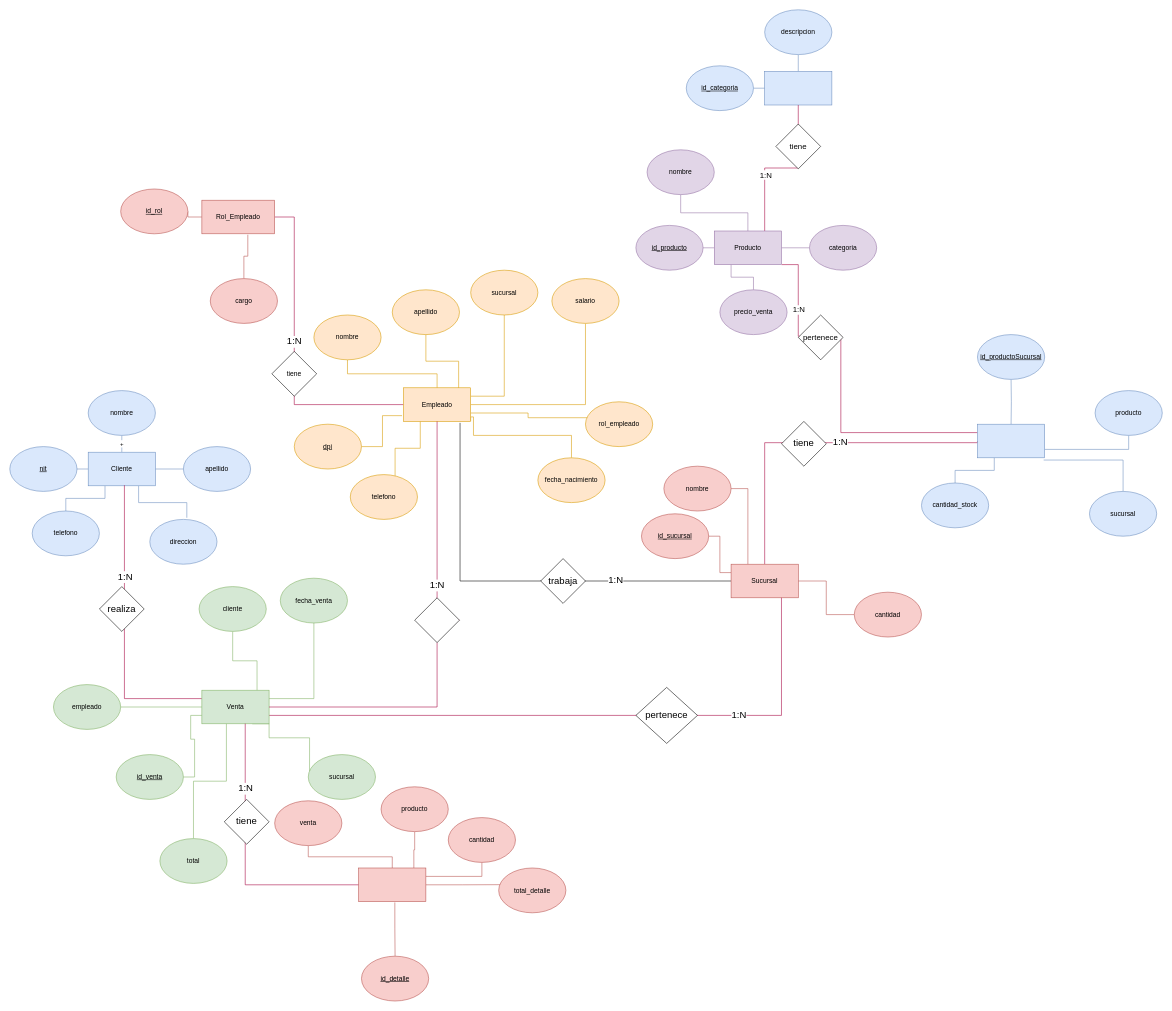
The diagram is 1172 pixels wide and 1011 high, and some of its shapes have lost their labels. Here are the shapes that lost their labels. From the top down, the centre of each, then its label:
(798,88): Categoria_Producto
(1011,441): ProductoSucursal
(436,620): registra
(392,884): DetalleVenta
